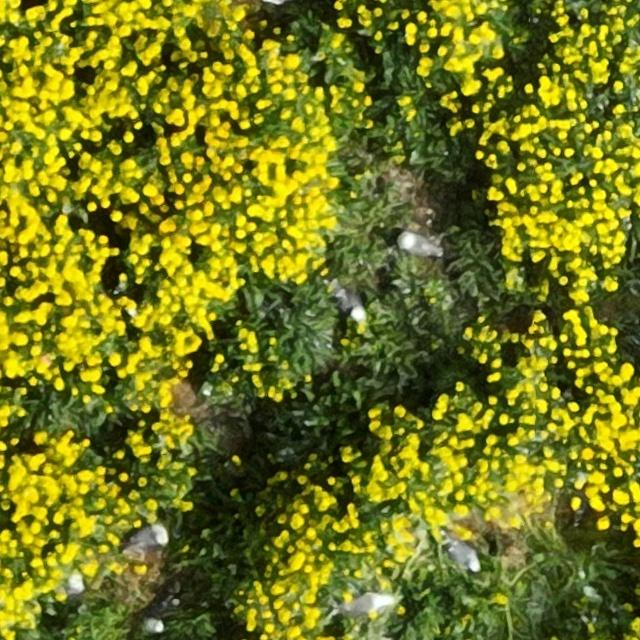umineko: (336, 592, 398, 617), (446, 540, 478, 571), (126, 526, 167, 550), (335, 288, 363, 320), (399, 234, 438, 255)
